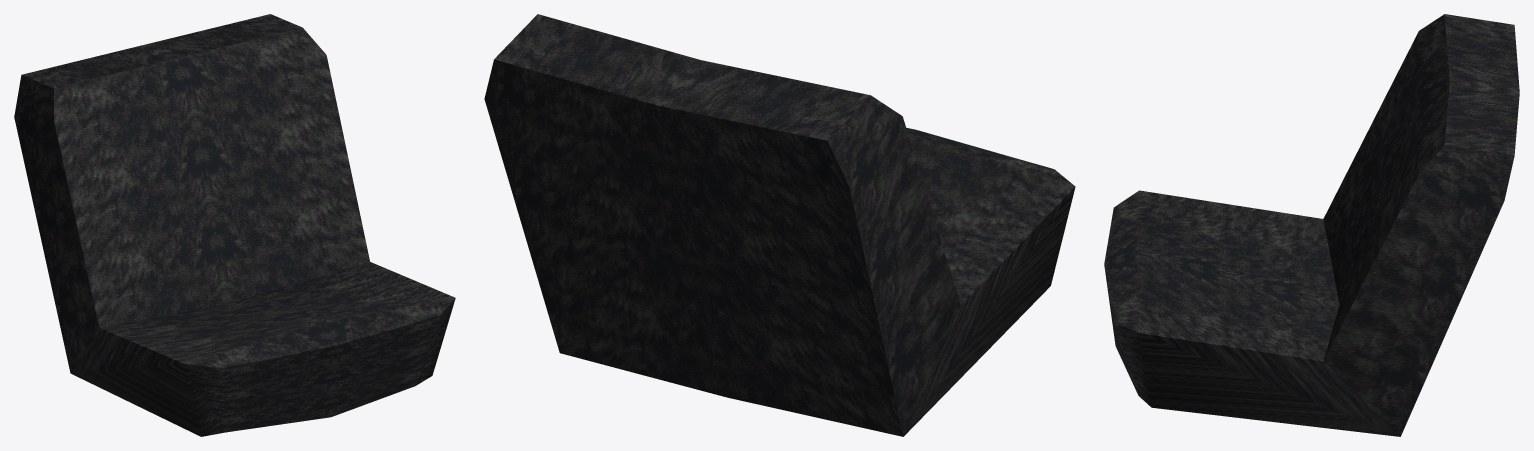
File: Seat (Normal).fbx
3 renders of one model, left to right at view 1: azimuth 30°, elevation 25°; view 2: azimuth 150°, elevation 25°; view 3: azimuth 270°, elevation 25°, orthographic. The views are drawn at different scales.
Visible parts, largest first — view 1: node_id213; view 2: node_id213; view 3: node_id213.
Boxes of the visible parts, x1=… form: node_id213: x1=14, y1=14, x2=455, y2=436; node_id213: x1=484, y1=14, x2=1075, y2=436; node_id213: x1=1104, y1=14, x2=1519, y2=436.
Size of the model in its own units: 0.512 by 0.4827 by 0.6267.
Materials: 1 (1 with a texture image).
